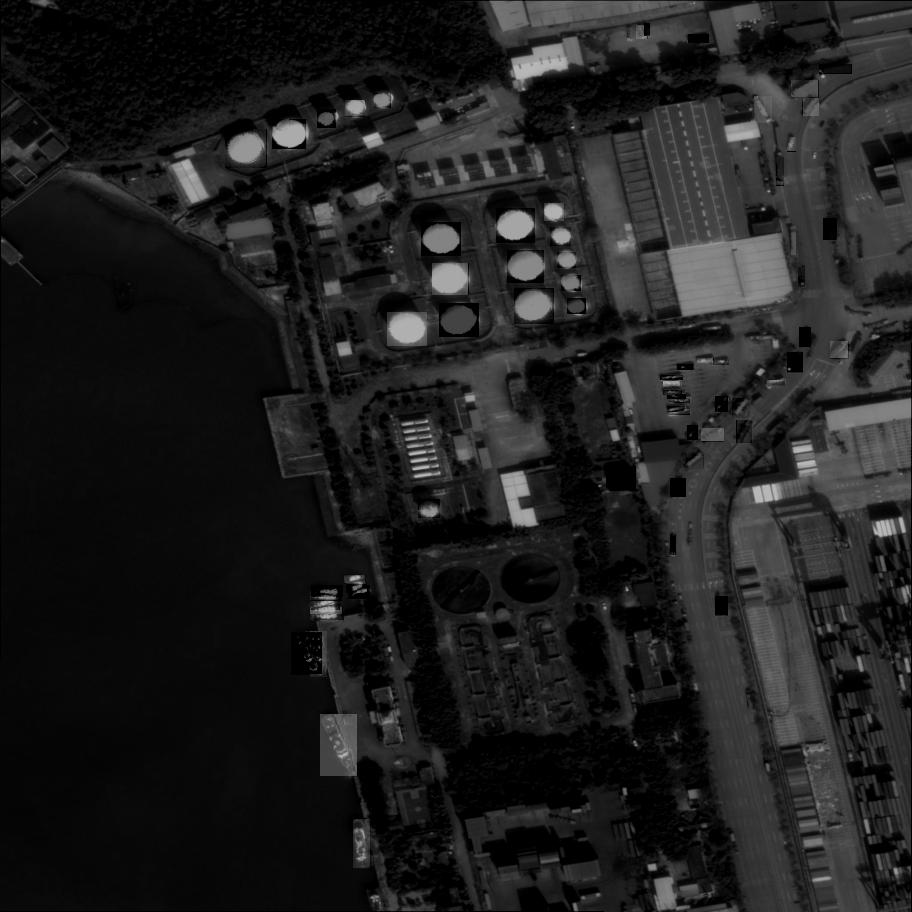large-vehicle: (755, 96, 773, 125), (792, 80, 819, 98), (732, 398, 750, 420), (737, 419, 752, 444), (819, 64, 852, 75), (823, 219, 839, 241), (787, 352, 803, 374), (831, 341, 850, 359), (701, 428, 725, 442), (683, 454, 704, 470), (804, 98, 820, 118), (670, 478, 686, 498), (714, 596, 728, 617), (800, 327, 812, 349), (777, 157, 786, 186), (715, 395, 729, 413), (688, 34, 709, 44), (688, 425, 699, 441), (669, 409, 691, 417), (798, 266, 806, 287), (636, 25, 647, 39), (791, 226, 796, 255), (787, 137, 796, 153), (766, 380, 785, 387), (748, 692, 755, 710), (671, 534, 677, 554), (660, 376, 683, 381), (668, 406, 684, 412), (678, 365, 694, 371), (668, 394, 686, 399), (664, 390, 682, 395), (663, 381, 680, 386), (628, 27, 634, 41), (644, 23, 650, 37), (669, 399, 690, 403), (713, 360, 729, 365), (698, 358, 713, 363)
ship: (320, 713, 357, 777), (292, 632, 324, 676), (354, 819, 371, 869), (310, 631, 327, 678), (311, 597, 342, 612), (311, 586, 344, 598), (348, 586, 370, 600), (311, 612, 344, 620), (347, 582, 368, 594), (310, 608, 342, 614), (344, 576, 365, 585), (311, 595, 342, 600)
storage-tank: (225, 130, 269, 169), (514, 289, 555, 325), (387, 313, 428, 348), (497, 209, 537, 244), (421, 222, 462, 256), (440, 304, 480, 337), (506, 250, 545, 283), (433, 263, 470, 296), (273, 119, 307, 150), (607, 467, 638, 493), (418, 499, 440, 520), (545, 204, 567, 223), (550, 227, 572, 246), (317, 109, 338, 128), (346, 100, 365, 118), (557, 252, 576, 268), (568, 299, 587, 315), (374, 93, 391, 109), (562, 275, 580, 290)
